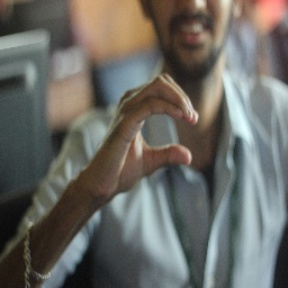C: (114, 71, 206, 180)
